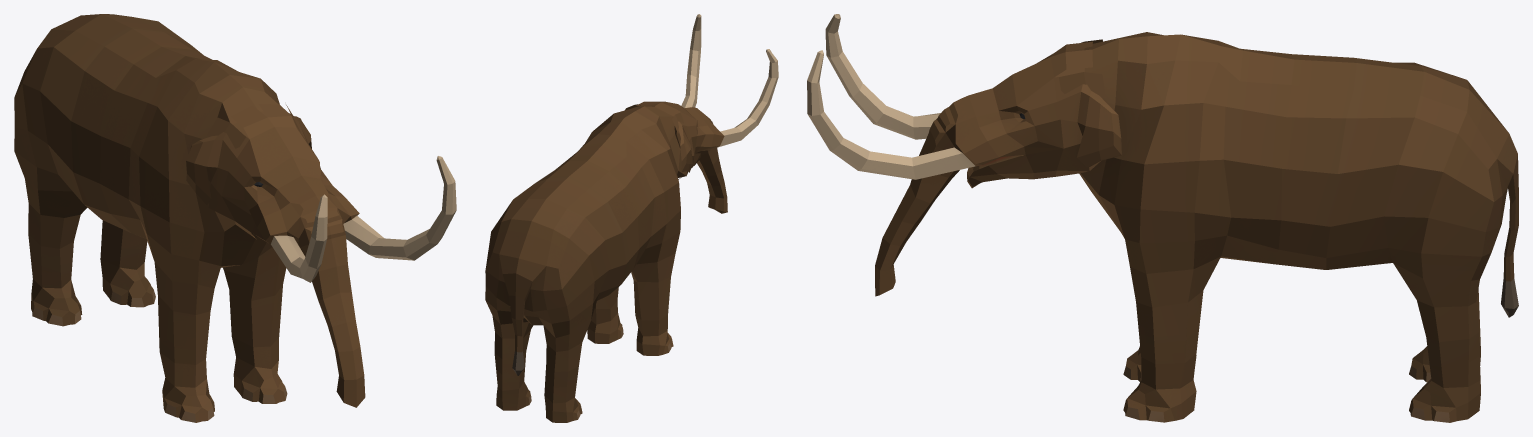
The model's file is mammoth.glb.
The picture shows the model from 3 angles, left to right: view 1: azimuth 30°, elevation 25°; view 2: azimuth 150°, elevation 25°; view 3: azimuth 270°, elevation 25°; orthographic projection. The views are drawn at different scales.
Visible parts, largest first — view 1: Object_13, Object_15; view 2: Object_13, Object_15; view 3: Object_13, Object_15.
Part boxes in pixels (x1,y1,x2,y2): Object_13: (14,14,365,422); Object_15: (271,156,456,282); Object_13: (485,101,727,422); Object_15: (681,14,778,147); Object_13: (875,32,1518,422); Object_15: (807,14,975,179).
Size of the model in its own units: 1.5 by 3.37 by 5.82.
1 material, 1 textured.
